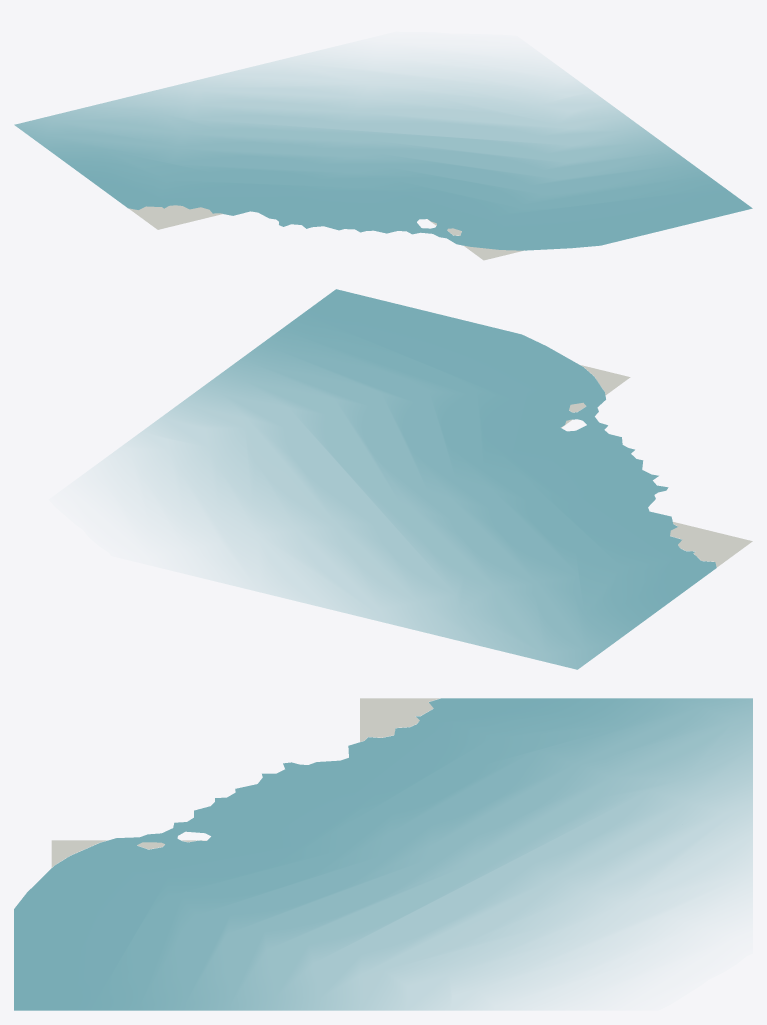
3 renders of one model, top to bottom at view 1: azimuth 30°, elevation 25°; view 2: azimuth 150°, elevation 25°; view 3: azimuth 270°, elevation 25°, orthographic. The views are drawn at different scales.
Visible parts, largest first — view 1: city; view 2: city; view 3: city.
Boxes of the visible parts, x1,y1,x2,y2 form: city: (14, 53, 752, 260); city: (104, 289, 752, 669); city: (14, 698, 752, 1010).
Bounding box in the file's own units: 500 × 0.18 × 500.
